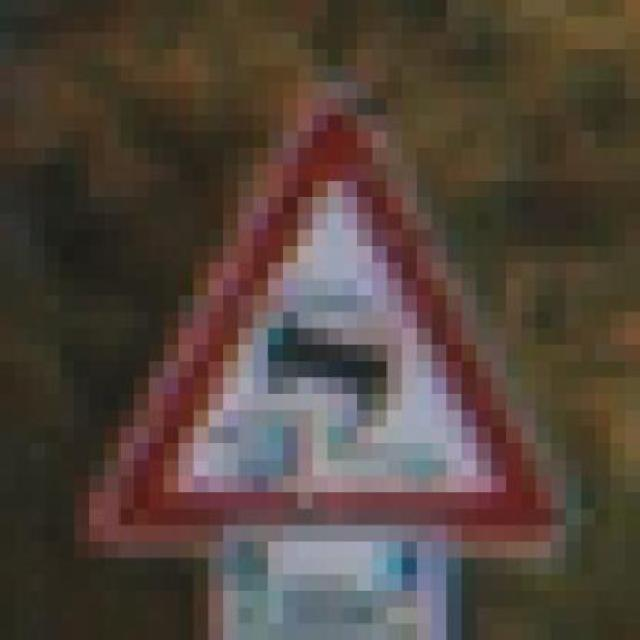Slippery Road Ahead: (74, 66, 580, 574)
